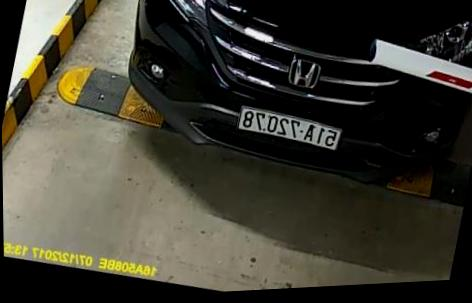License_Plate: (236, 99, 345, 157)
